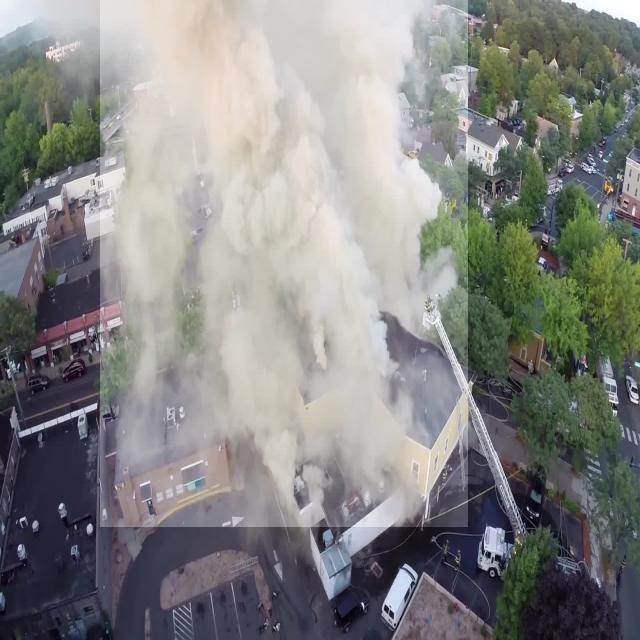Smoke: (100, 0, 468, 527)
